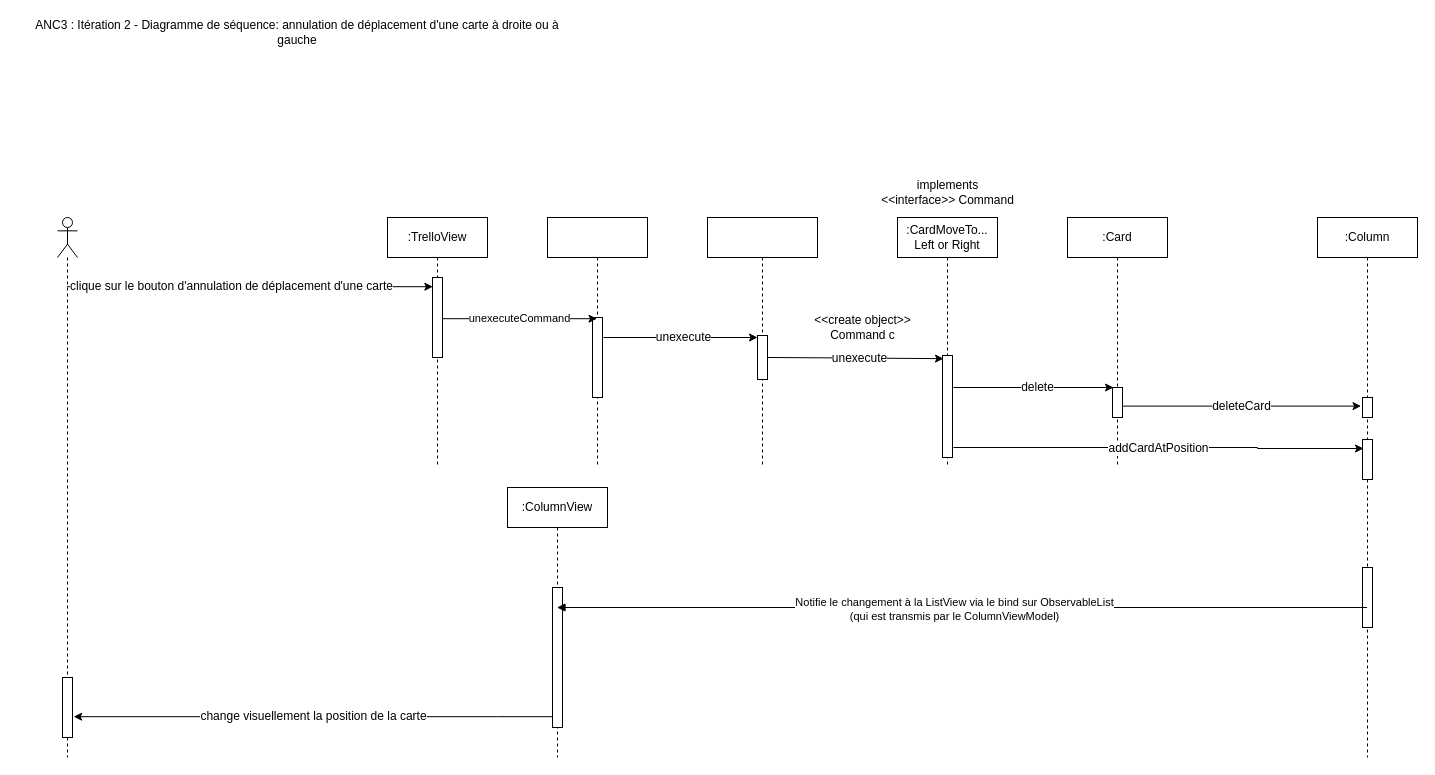
This 1435x775 diagram has some shape labels left out. Here are the shapes that lost their labels. From the top down, the centre of each, then its label:
[597,342]: :TrelloViewModel
[762,342]: :CommandManager
